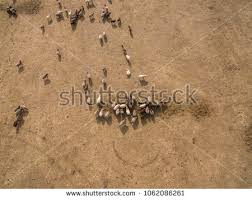sheep: (136, 73, 148, 82), (12, 116, 21, 128), (53, 47, 63, 57), (53, 10, 64, 18), (94, 107, 100, 121), (14, 58, 23, 67), (79, 79, 88, 88), (37, 21, 46, 30), (123, 67, 131, 77), (85, 70, 93, 80), (15, 108, 25, 116), (124, 53, 132, 62), (94, 94, 102, 103), (126, 23, 133, 33), (99, 107, 105, 118), (144, 105, 150, 116), (99, 65, 107, 73), (87, 11, 95, 19), (42, 13, 51, 20), (41, 73, 49, 80), (96, 33, 103, 41), (118, 102, 127, 108), (124, 106, 130, 115)
